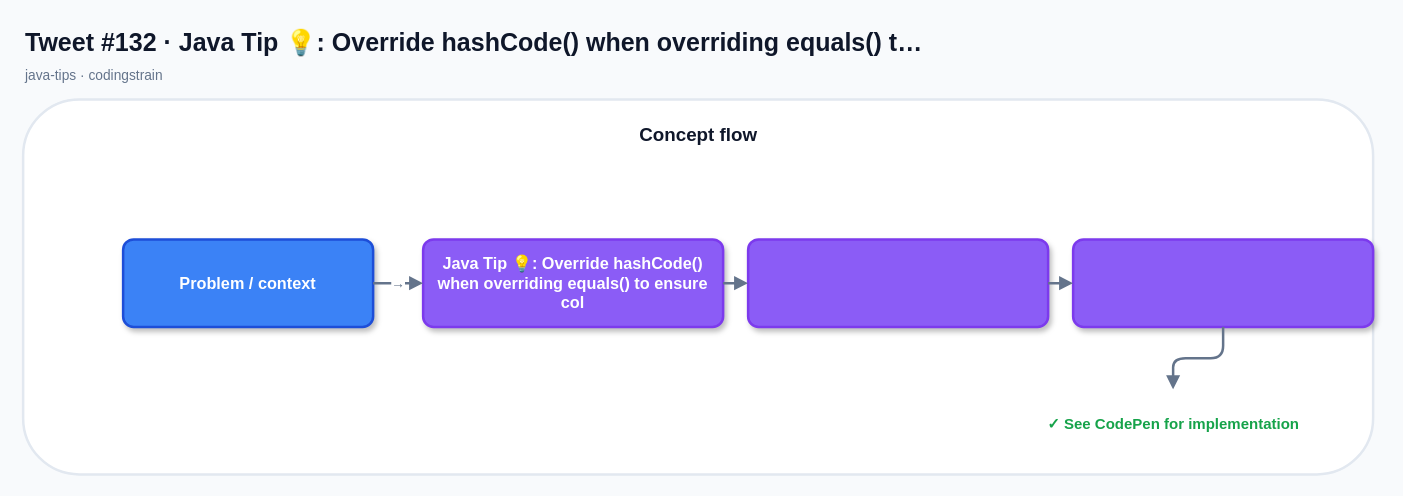
Some shapes in this 1403 by 496 pixel diagram are drawn without their labels. The shapes that lost their labels are listed below. From the top down, each one's centre as x and y in pixels, then its label:
At (898,284): "HashMap is based on an hash table data structure, and uses hashCode()".
At (1223,284): "#Java #Collections".
